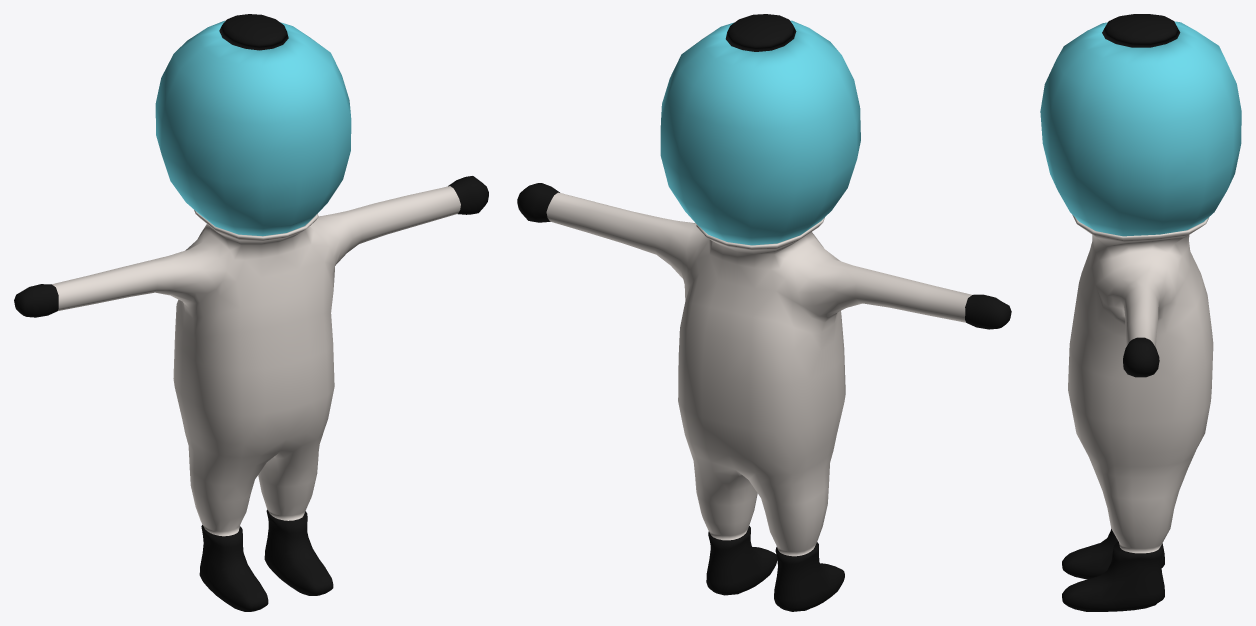
File: Character.fbx
3 views of the same model, side by side, from view 1: azimuth 30°, elevation 25°; view 2: azimuth 150°, elevation 25°; view 3: azimuth 270°, elevation 25° (orthographic). The views are drawn at different scales.
Parts seen in each view (by area): view 1: Astronot; view 2: Astronot; view 3: Astronot.
Part boxes in pixels (x1=…): Astronot: x1=14, y1=14, x2=488, y2=611; Astronot: x1=517, y1=14, x2=1011, y2=611; Astronot: x1=1040, y1=14, x2=1241, y2=611.
Bounding box in the file's own units: 170 × 193 × 61.63.
